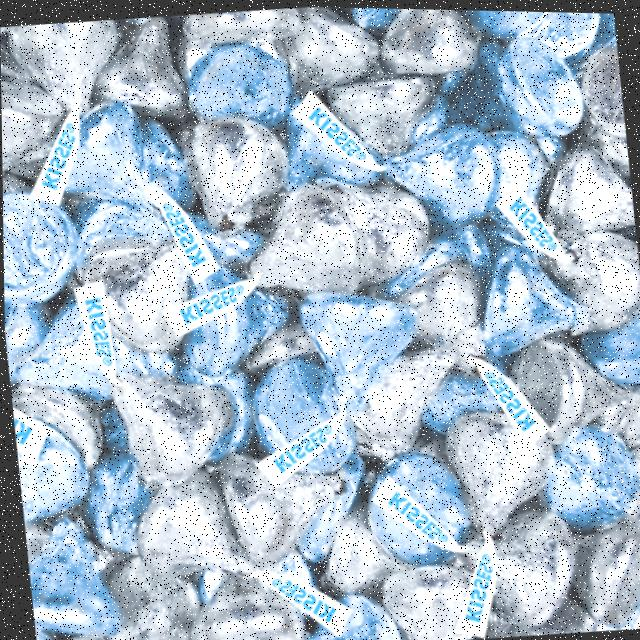kisses: (73, 225, 209, 368), (124, 471, 269, 605), (532, 160, 640, 336), (438, 401, 561, 549), (89, 360, 230, 487), (175, 106, 299, 238), (384, 258, 503, 392), (234, 184, 370, 301), (7, 17, 129, 134), (329, 63, 432, 170), (379, 548, 493, 640)
